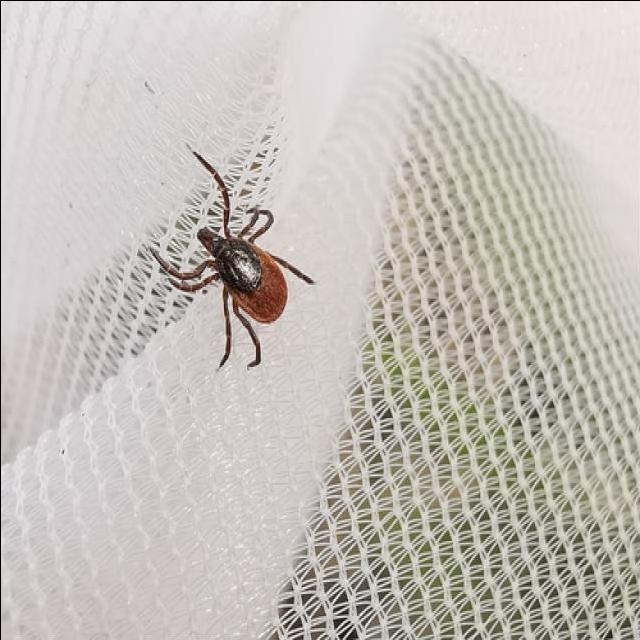Ixodes Ricinus-F: (154, 150, 316, 372)
